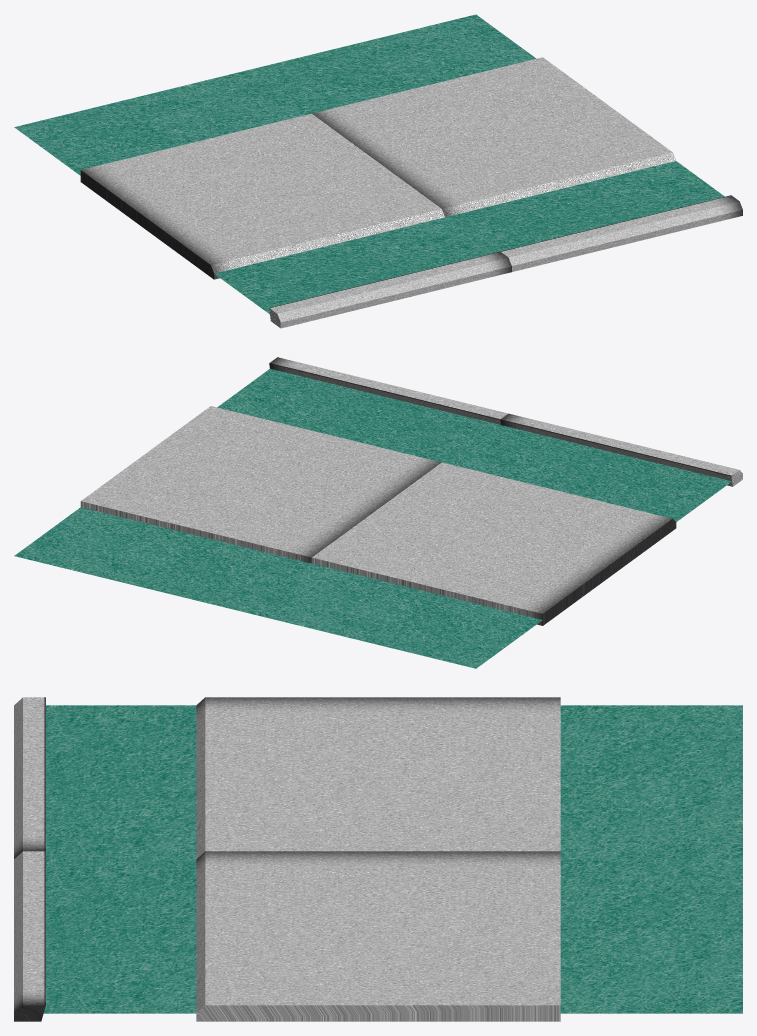
The model's file is sidewalkGrass_2.fbx.
The picture shows the model from 3 angles, top to bottom: view 1: azimuth 30°, elevation 25°; view 2: azimuth 150°, elevation 25°; view 3: azimuth 270°, elevation 25°; orthographic projection. The views are drawn at different scales.
Visible parts, largest first — view 1: tileSidewalkGrass.004; view 2: tileSidewalkGrass.004; view 3: tileSidewalkGrass.004.
Boxes of the visible parts, x1,y1,x2,y2 form: tileSidewalkGrass.004: [14, 14, 742, 328]; tileSidewalkGrass.004: [14, 357, 742, 668]; tileSidewalkGrass.004: [14, 697, 742, 1021].
Bounding box in the file's own units: 800 × 20 × 800.
2 materials, 2 textured.
